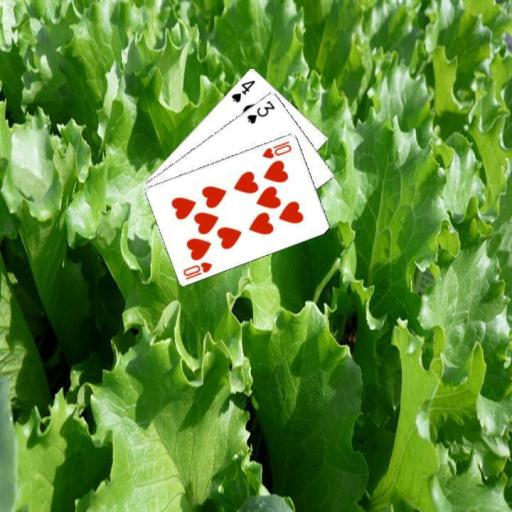card-corner: (244, 97, 277, 125), (228, 77, 257, 104), (259, 137, 293, 160), (180, 258, 214, 281)
